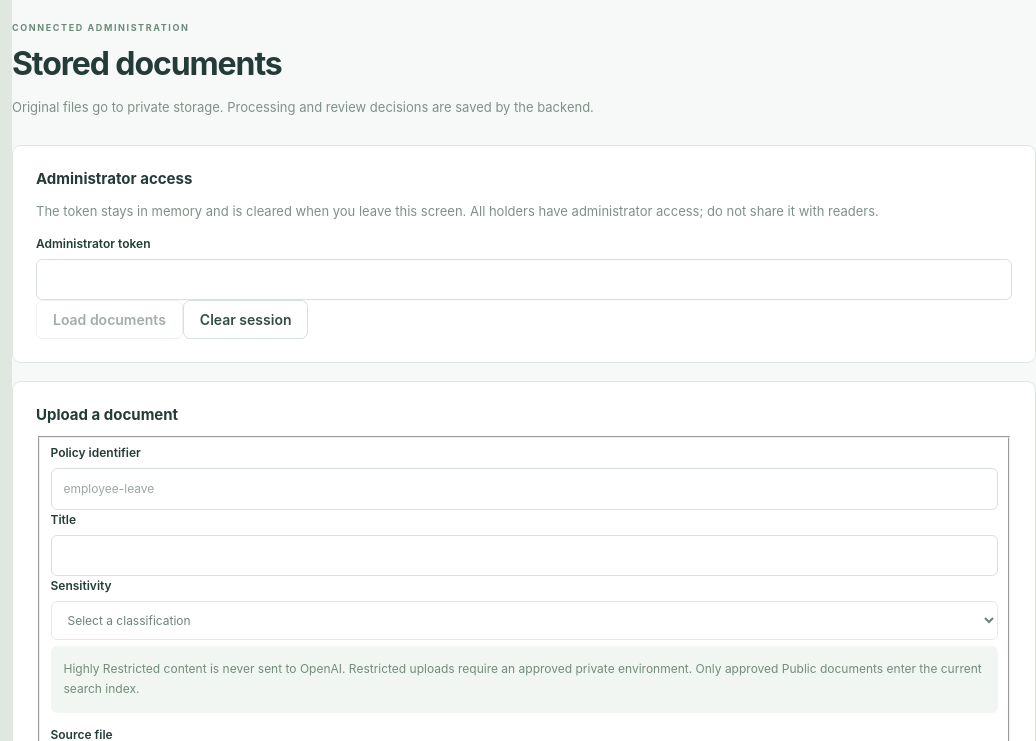
persists an explicit human decision with a required reason
The image size is (1036, 741).
Type "private-test-token" into the password field labelled "Administrator token".
click(524, 280); type("private-test-token")  # box [36,259,1012,300]
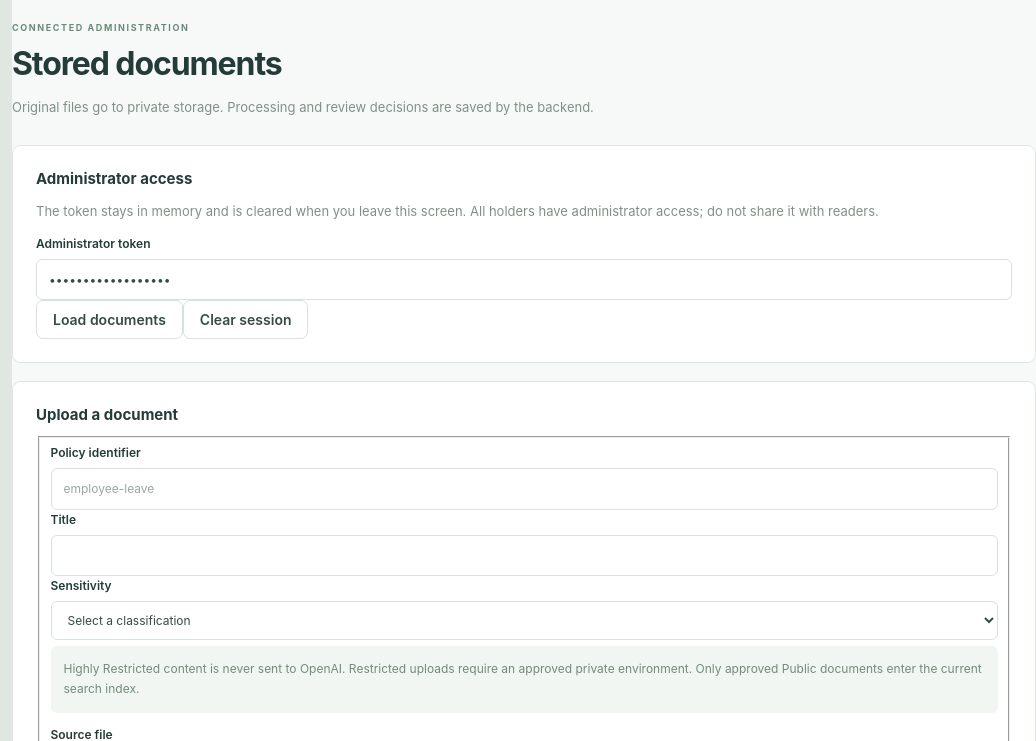
Click the button "Load documents".
click(109, 320)  # box [36,300,183,339]
(page scrolled)
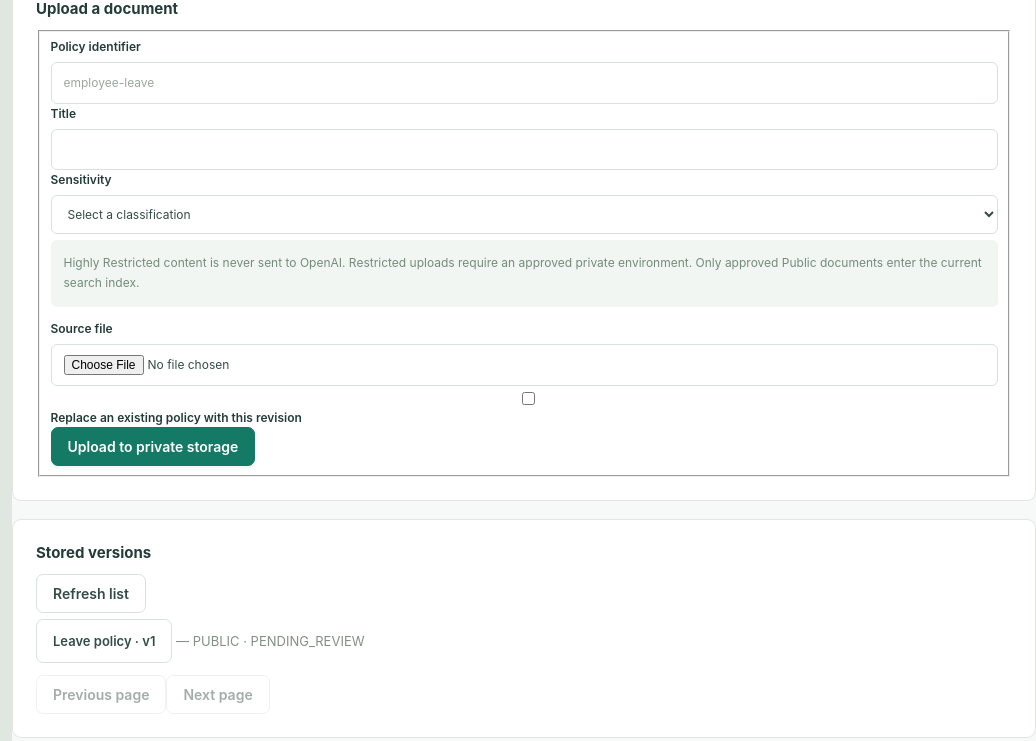
Click the button "Leave policy · v1".
click(104, 641)  # box [36,619,172,663]
(page scrolled)
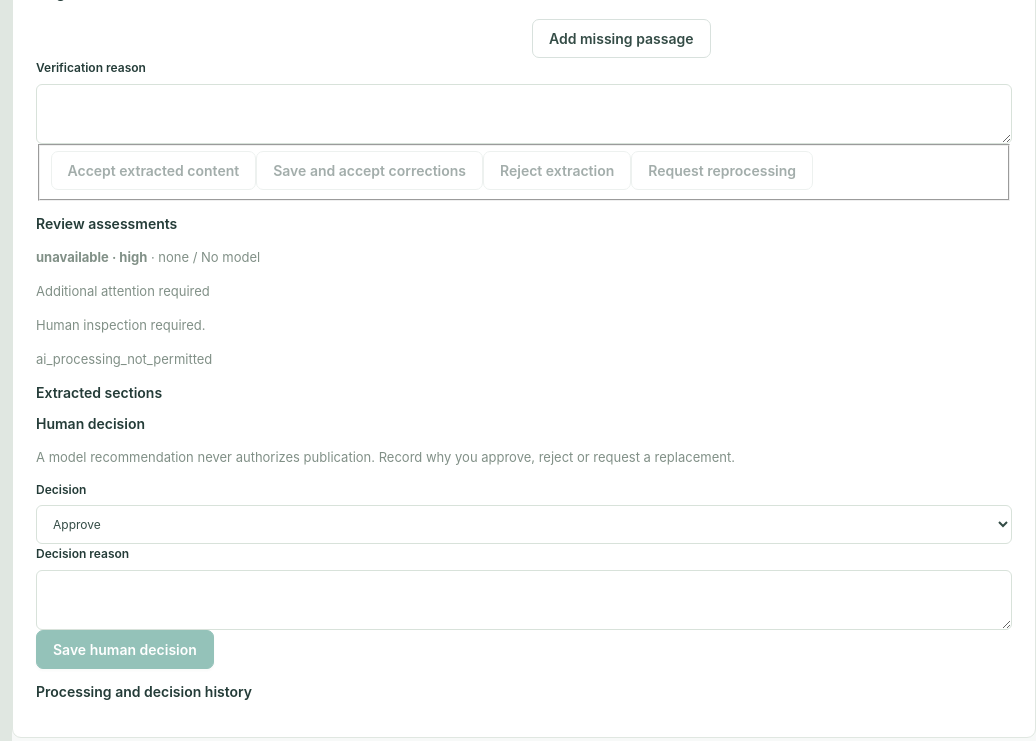
Expected: the text "Human inspection required." is shown, [36,317,206,333]
Type "I checked the source manually." into the text box labelled "Decision reason".
click(524, 600); type("I checked the source manually.")  # box [36,570,1012,630]
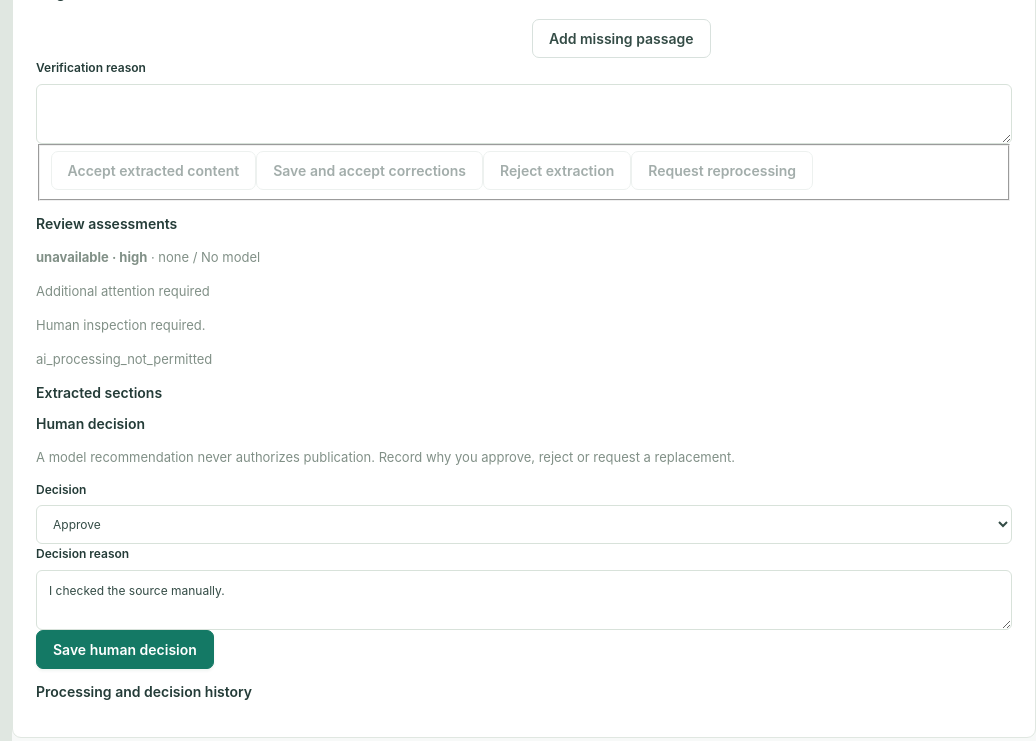
Expected: the button "Save human decision" is enabled
Click the button "Save human decision".
click(125, 649)  # box [36,630,214,669]
(page scrolled)
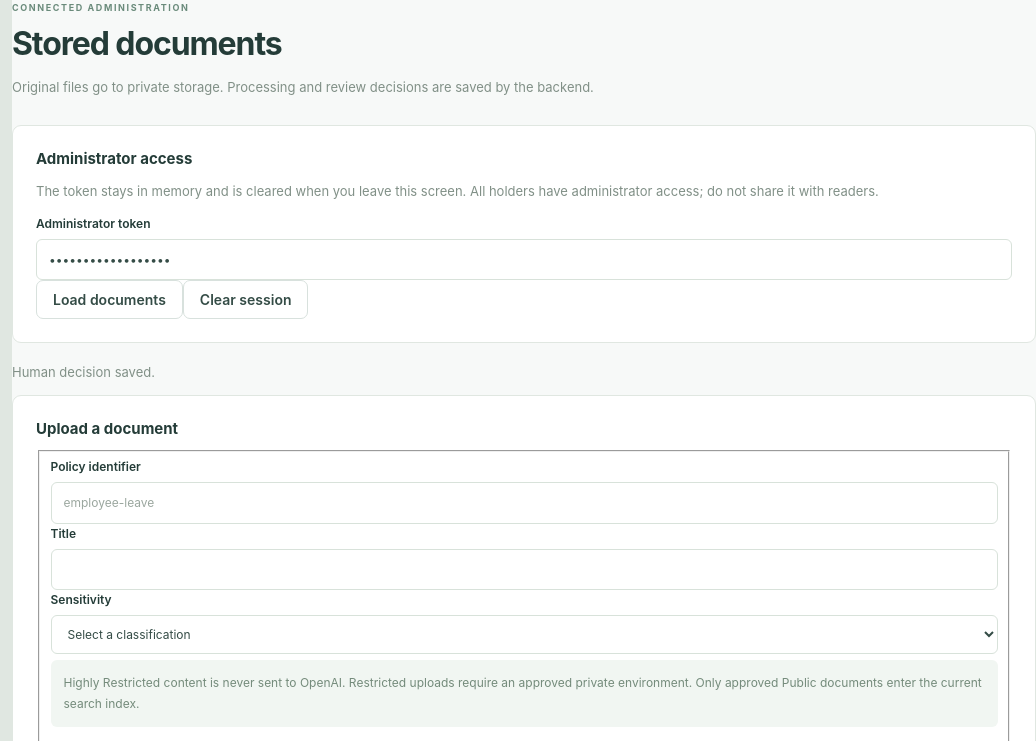
Expected: the text "Human decision saved." is shown, [12,364,155,380]
